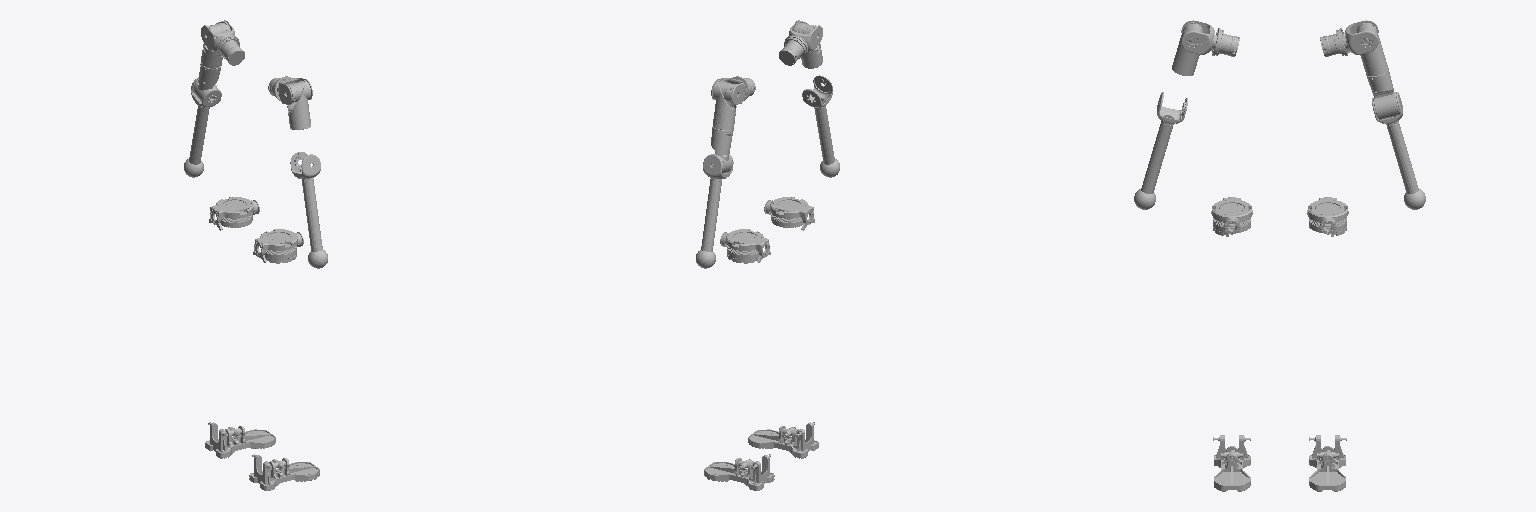
--- Facts derived from the render (not from the file) ---
3 views of the same robot in one strip: view 1: azimuth 30°, elevation 25°; view 2: azimuth 150°, elevation 25°; view 3: azimuth 270°, elevation 25° (orthographic).
Model tiangong_lite with 31 links and 30 joints (21 revolute, 9 fixed), rooted at base_link, posed every joint at zero.
Links seen in each view (by area): view 1: elbow_pitch_r_link, ankle_Roll_r_link, ankle_Roll_l_link, hip_Roll_r_link, elbow_pitch_l_link, hip_Roll_l_link, shoulder_roll_r_link, arm_fixed_l_link, arm_yaw_l_link, shoulder_roll_l_link; view 2: elbow_pitch_l_link, elbow_pitch_r_link, ankle_Roll_l_link, ankle_Roll_r_link, hip_Roll_l_link, hip_Roll_r_link, shoulder_roll_l_link, arm_yaw_l_link, arm_fixed_r_link, shoulder_roll_r_link; view 3: elbow_pitch_r_link, elbow_pitch_l_link, ankle_Roll_l_link, ankle_Roll_r_link, hip_Roll_r_link, hip_Roll_l_link, arm_yaw_l_link, shoulder_pitch_l_link, shoulder_pitch_r_link, shoulder_roll_r_link, shoulder_roll_l_link.
Link boxes in pixels (x1,y1,x2,y2): elbow_pitch_r_link: (290, 152, 327, 268); ankle_Roll_r_link: (249, 454, 319, 490); ankle_Roll_l_link: (205, 422, 275, 458); hip_Roll_r_link: (253, 229, 303, 263); elbow_pitch_l_link: (184, 77, 221, 177); hip_Roll_l_link: (209, 197, 259, 230); shoulder_roll_r_link: (286, 80, 310, 129); arm_fixed_l_link: (216, 35, 244, 65); arm_yaw_l_link: (192, 63, 221, 101); shoulder_roll_l_link: (201, 21, 230, 68); elbow_pitch_l_link: (696, 154, 733, 268); elbow_pitch_r_link: (802, 75, 839, 177); ankle_Roll_l_link: (704, 454, 774, 490); ankle_Roll_r_link: (748, 422, 818, 458); hip_Roll_l_link: (720, 229, 770, 263); hip_Roll_r_link: (764, 197, 814, 230); shoulder_roll_l_link: (713, 80, 737, 129); arm_yaw_l_link: (711, 127, 733, 173); arm_fixed_r_link: (779, 35, 807, 65); shoulder_roll_r_link: (793, 21, 822, 68); elbow_pitch_r_link: (1134, 92, 1187, 209); elbow_pitch_l_link: (1372, 92, 1425, 209); ankle_Roll_l_link: (1309, 435, 1346, 491); ankle_Roll_r_link: (1213, 435, 1250, 491); hip_Roll_r_link: (1211, 197, 1252, 236); hip_Roll_l_link: (1307, 197, 1348, 236); arm_yaw_l_link: (1366, 68, 1399, 119); shoulder_pitch_l_link: (1343, 20, 1378, 54); shoulder_pitch_r_link: (1181, 20, 1216, 54); shoulder_roll_r_link: (1172, 22, 1202, 75); shoulder_roll_l_link: (1357, 23, 1387, 75).
Size in the robot's own frame: 0.2 by 0.7924 by 1.34 metres.
15 mesh visuals loaded from 25 distinct referenced files (15 binary STL); not drawn: 10 (reference not matched to a file when rendering).

The robot description file, URDF, robot "tiangong_lite":
<?xml version="1.0" encoding="utf-8"?>
<!-- This URDF was automatically created by SolidWorks to URDF Exporter! Originally created by Stephen Brawner ([email redacted]) 
     Commit Version: 1.6.0-4-g7f85cfe  Build Version: 1.6.7995.38578
     For more information, please see http://wiki.ros.org/sw_urdf_exporter -->
<robot
  name="tiangong_lite">
  <link name="base_link">
    <visual>
      <geometry>
        <sphere radius="0.001" />
      </geometry>
    </visual>
  </link>
  
  <link
    name="pelvis">
    <inertial>
      <origin
        xyz="-0.0683191396459559 -1.61037901759549E-05 -0.0613244973739359"
        rpy="0 0 0" />
      <mass
        value="10.0968751442954" />
      <inertia
        ixx="0.0368422898385672"
        ixy="2.35803111868543E-06"
        ixz="0.000190664793941408"
        iyy="0.0167402708039097"
        iyz="-7.76076014449144E-07"
        izz="0.0364838559898797" />
    </inertial>
    <visual>
      <origin
        xyz="0 0 0"
        rpy="0 0 0" />
      <geometry>
        <mesh
          filename="package://tiangong_lite-URDF/meshes/pelvis.STL" />
      </geometry>
      <material
        name="">
        <color
          rgba="0.752941176470588 0.752941176470588 0.752941176470588 1" />
      </material>
    </visual>
    <collision>
      <origin
        xyz="0 0 0"
        rpy="0 0 0" />
      <geometry>
        <mesh
          filename="package://tiangong_lite-URDF/meshes/pelvis.STL" />
      </geometry>
    </collision>
  </link>
  
  <joint name="base_link2pelvis" type="fixed">
    <parent link="base_link" />
    <child link="pelvis" />
    <origin xyz="0 0 0.02" />
  </joint>
  
  <link
    name="imu_link">
  </link>

  <joint name="base_link2imu_joint" type="fixed">
    <origin xyz="0.033 0 -0.01479" rpy="0 0 0"/>
    <parent link="base_link"/>
    <child link="imu_link" />
  </joint>
  
  <link
    name="hip_Roll_l_link">
    <inertial>
      <origin
        xyz="-0.00044006 0.0030096 -0.0036503"
        rpy="0 0 0" />
      <mass
        value="1.2595" />
      <inertia
        ixx="0.00094409"
        ixy="7.5625E-09"
        ixz="-1.6451E-05"
        iyy="0.0014494"
        iyz="2.5156E-08"
        izz="0.0022836" />
    </inertial>
    <visual>
      <origin
        xyz="0 0 0"
        rpy="0 0 0" />
      <geometry>
        <mesh
          filename="package://tiangong_lite-URDF/meshes/hip_Roll_l_link.STL" />
      </geometry>
      <material
        name="">
        <color
          rgba="0.75294 0.75294 0.75294 1" />
      </material>
    </visual>
    <collision>
      <origin
        xyz="0 0 0"
        rpy="0 0 0" />
      <geometry>
        <mesh
          filename="package://tiangong_lite-URDF/meshes/hip_Roll_l_link.STL" />
      </geometry>
    </collision>
  </link>
  <joint
    name="hip_Roll_l_joint"
    type="revolute">
    <origin
      xyz="0 0.13 -0.079"
      rpy="0 0 0" />
    <parent
      link="pelvis" />
    <child
      link="hip_Roll_l_link" />
    <axis
      xyz="1 0 0" />
    <limit
      lower="0"
      upper="0"
      effort="0"
      velocity="0" />
  </joint>
  <link
    name="hip_Yaw_l_link">
    <inertial>
      <origin
        xyz="0.000456885227768308 0.00761317293034225 0.00431854133825724"
        rpy="0 0 0" />
      <mass
        value="4.21477664301727" />
      <inertia
        ixx="0.00425465956277031"
        ixy="-2.59645654577465E-06"
        ixz="3.52406937310402E-05"
        iyy="0.00788284234418444"
        iyz="-1.24140377482092E-05"
        izz="0.00425869617422774" />
    </inertial>
    <visual>
      <origin
        xyz="0 0 0"
        rpy="0 0 0" />
      <geometry>
        <mesh
          filename="package://tiangong_lite-URDF/meshes/hip_Yaw_l_link.STL" />
      </geometry>
      <material
        name="">
        <color
          rgba="0.752941176470588 0.752941176470588 0.752941176470588 1" />
      </material>
    </visual>
    <collision>
      <origin
        xyz="0 0 0"
        rpy="0 0 0" />
      <geometry>
        <mesh
          filename="package://tiangong_lite-URDF/meshes/hip_Yaw_l_link.STL" />
      </geometry>
    </collision>
  </link>
  <joint
    name="hip_Yaw_l_joint"
    type="revolute">
    <origin
      xyz="0 0 -0.116"
      rpy="0 0 0" />
    <parent
      link="hip_Roll_l_link" />
    <child
      link="hip_Yaw_l_link" />
    <axis
      xyz="0 0 1" />
    <limit
      lower="0"
      upper="0"
      effort="0"
      velocity="0" />
  </joint>
  <link
    name="hip_Pitch_l_link">
    <inertial>
      <origin
        xyz="0.0027656 -0.014993 -0.13492"
        rpy="0 0 0" />
      <mass
        value="5.0501" />
      <inertia
        ixx="0.014086"
        ixy="-0.000122"
        ixz="-0.00013584"
        iyy="0.018798"
        iyz="0.00037829"
        izz="0.0057246" />
    </inertial>
    <visual>
      <origin
        xyz="0 0 0"
        rpy="0 0 0" />
      <geometry>
        <mesh
          filename="package://tiangong_lite-URDF/meshes/hip_Pitch_l_link.STL" />
      </geometry>
      <material
        name="">
        <color
          rgba="0.75294 0.75294 0.75294 1" />
      </material>
    </visual>
    <collision>
      <origin
        xyz="0 0 0"
        rpy="0 0 0" />
      <geometry>
        <mesh
          filename="package://tiangong_lite-URDF/meshes/hip_Pitch_l_link.STL" />
      </geometry>
    </collision>
  </link>
  <joint
    name="hip_Pitch_l_joint"
    type="revolute">
    <origin
      xyz="0 0 0"
      rpy="0 0 0" />
    <parent
      link="hip_Yaw_l_link" />
    <child
      link="hip_Pitch_l_link" />
    <axis
      xyz="0 1 0" />
    <limit
      lower="0"
      upper="0"
      effort="0"
      velocity="0" />
  </joint>
  <link
    name="knee_Pitch_l_link">
    <inertial>
      <origin
        xyz="0.0046795 0.002884 -0.13005"
        rpy="0 0 0" />
      <mass
        value="2.4569" />
      <inertia
        ixx="0.026146"
        ixy="-1.0224E-05"
        ixz="-0.00059151"
        iyy="0.02631"
        iyz="-0.00085705"
        izz="0.0010515" />
    </inertial>
    <visual>
      <origin
        xyz="0 0 0"
        rpy="0 0 0" />
      <geometry>
        <mesh
          filename="package://tiangong_lite-URDF/meshes/knee_Pitch_l_link.STL" />
      </geometry>
      <material
        name="">
        <color
          rgba="0.75294 0.75294 0.75294 1" />
      </material>
    </visual>
    <collision>
      <origin
        xyz="0 0 0"
        rpy="0 0 0" />
      <geometry>
        <mesh
          filename="package://tiangong_lite-URDF/meshes/knee_Pitch_l_link.STL" />
      </geometry>
    </collision>
  </link>
  <joint
    name="knee_Pitch_l_joint"
    type="revolute">
    <origin
      xyz="0 0 -0.3"
      rpy="0 0 0" />
    <parent
      link="hip_Pitch_l_link" />
    <child
      link="knee_Pitch_l_link" />
    <axis
      xyz="0 1 0" />
    <limit
      lower="0"
      upper="0"
      effort="0"
      velocity="0" />
  </joint>
  <link
    name="ankle_Pitch_l_link">
    <inertial>
      <origin
        xyz="1.2319E-09 5.884E-10 2.2204E-16"
        rpy="0 0 0" />
      <mass
        value="0.11161" />
      <inertia
        ixx="7.9109E-06"
        ixy="1.5315E-19"
        ixz="-9.5838E-12"
        iyy="7.9109E-06"
        iyz="2.7061E-11"
        izz="1.2089E-05" />
    </inertial>
    <visual>
      <origin
        xyz="0 0 0"
        rpy="0 0 0" />
      <geometry>
        <mesh
          filename="package://tiangong_lite-URDF/meshes/ankle_Pitch_l_link.STL" />
      </geometry>
      <material
        name="">
        <color
          rgba="0.75294 0.75294 0.75294 1" />
      </material>
    </visual>
    <collision>
      <origin
        xyz="0 0 0"
        rpy="0 0 0" />
      <geometry>
        <mesh
          filename="package://tiangong_lite-URDF/meshes/ankle_Pitch_l_link.STL" />
      </geometry>
    </collision>
  </link>
  <joint
    name="ankle_Pitch_l_joint"
    type="revolute">
    <origin
      xyz="0 0 -0.3"
      rpy="0 0 0" />
    <parent
      link="knee_Pitch_l_link" />
    <child
      link="ankle_Pitch_l_link" />
    <axis
      xyz="0 1 0" />
    <limit
      lower="0"
      upper="0"
      effort="0"
      velocity="0" />
  </joint>
  <link
    name="ankle_Roll_l_link">
    <inertial>
      <origin
        xyz="0.0858563632348368 1.73450246768181E-06 -0.0297135132092604"
        rpy="0 0 0" />
      <mass
        value="1.21989561992106" />
      <inertia
        ixx="0.000907720482875368"
        ixy="2.23891942831048E-07"
        ixz="0.000252444158360131"
        iyy="0.00377166405514924"
        iyz="-3.3237662949299E-08"
        izz="0.00418690312758228" />
    </inertial>
    <visual>
      <origin
        xyz="0 0 0"
        rpy="0 0 0" />
      <geometry>
        <mesh
          filename="package://tiangong_lite-URDF/meshes/ankle_Roll_l_link.STL" />
      </geometry>
      <material
        name="">
        <color
          rgba="0.752941176470588 0.752941176470588 0.752941176470588 1" />
      </material>
    </visual>
    <collision>
      <origin
        xyz="0 0 0"
        rpy="0 0 0" />
      <geometry>
        <mesh
          filename="package://tiangong_lite-URDF/meshes/ankle_Roll_l_link.STL" />
      </geometry>
    </collision>
  </link>
  <joint
    name="ankle_Roll_l_joint"
    type="revolute">
    <origin
      xyz="0 0 0"
      rpy="0 0 0" />
    <parent
      link="ankle_Pitch_l_link" />
    <child
      link="ankle_Roll_l_link" />
    <axis
      xyz="1 0 0" />
    <limit
      lower="0"
      upper="0"
      effort="0"
      velocity="0" />
  </joint>
  <link
    name="hip_Roll_r_link">
    <inertial>
      <origin
        xyz="-0.000439312194278327 -0.00300416966870193 -0.00365027972307495"
        rpy="0 0 0" />
      <mass
        value="1.25950088215482" />
      <inertia
        ixx="0.000944092574085448"
        ixy="7.32465985850128E-09"
        ixz="-1.64507918369879E-05"
        iyy="0.00144941855214879"
        iyz="1.27973880002973E-09"
        izz="0.0022835534500942" />
    </inertial>
    <visual>
      <origin
        xyz="0 0 0"
        rpy="0 0 0" />
      <geometry>
        <mesh
          filename="package://tiangong_lite-URDF/meshes/hip_Roll_r_link.STL" />
      </geometry>
      <material
        name="">
        <color
          rgba="0.752941176470588 0.752941176470588 0.752941176470588 1" />
      </material>
    </visual>
    <collision>
      <origin
        xyz="0 0 0"
        rpy="0 0 0" />
      <geometry>
        <mesh
          filename="package://tiangong_lite-URDF/meshes/hip_Roll_r_link.STL" />
      </geometry>
    </collision>
  </link>
  <joint
    name="hip_Roll_r_joint"
    type="revolute">
    <origin
      xyz="0 -0.13 -0.079"
      rpy="1.4459E-05 0 0" />
    <parent
      link="pelvis" />
    <child
      link="hip_Roll_r_link" />
    <axis
      xyz="1 0 0" />
    <limit
      lower="0"
      upper="0"
      effort="0"
      velocity="0" />
  </joint>
  <link
    name="hip_Yaw_r_link">
    <inertial>
      <origin
        xyz="0.000456006506013643 -0.0076131161506835 0.00431866083313726"
        rpy="0 0 0" />
      <mass
        value="4.21477586079255" />
      <inertia
        ixx="0.00425465775545884"
        ixy="2.61264741300542E-06"
        ixz="3.52836955859386E-05"
        iyy="0.00788284031064002"
        iyz="1.23614311142944E-05"
        izz="0.0042586952389106" />
    </inertial>
    <visual>
      <origin
        xyz="0 0 0"
        rpy="0 0 0" />
      <geometry>
        <mesh
          filename="package://tiangong_lite-URDF/meshes/hip_Yaw_r_link.STL" />
      </geometry>
      <material
        name="">
        <color
          rgba="0.752941176470588 0.752941176470588 0.752941176470588 1" />
      </material>
    </visual>
    <collision>
      <origin
        xyz="0 0 0"
        rpy="0 0 0" />
      <geometry>
        <mesh
          filename="package://tiangong_lite-URDF/meshes/hip_Yaw_r_link.STL" />
      </geometry>
    </collision>
  </link>
  <joint
    name="hip_Yaw_r_joint"
    type="revolute">
    <origin
      xyz="0 0 -0.116"
      rpy="0 0 0" />
    <parent
      link="hip_Roll_r_link" />
    <child
      link="hip_Yaw_r_link" />
    <axis
      xyz="0 0 1" />
    <limit
      lower="0"
      upper="0"
      effort="0"
      velocity="0" />
  </joint>
  <link
    name="hip_Pitch_r_link">
    <inertial>
      <origin
        xyz="0.0028697335245849 0.0141006233952337 -0.135215157213496"
        rpy="0 0 0" />
      <mass
        value="5.20670219603598" />
      <inertia
        ixx="0.0143444928886745"
        ixy="0.000121473321099202"
        ixz="-0.000135908356485241"
        iyy="0.0190701122500365"
        iyz="-0.000372774854667684"
        izz="0.00574700553761126" />
    </inertial>
    <visual>
      <origin
        xyz="0 0 0"
        rpy="0 0 0" />
      <geometry>
        <mesh
          filename="package://tiangong_lite-URDF/meshes/hip_Pitch_r_link.STL" />
      </geometry>
      <material
        name="">
        <color
          rgba="0.752941176470588 0.752941176470588 0.752941176470588 1" />
      </material>
    </visual>
    <collision>
      <origin
        xyz="0 0 0"
        rpy="0 0 0" />
      <geometry>
        <mesh
          filename="package://tiangong_lite-URDF/meshes/hip_Pitch_r_link.STL" />
      </geometry>
    </collision>
  </link>
  <joint
    name="hip_Pitch_r_joint"
    type="revolute">
    <origin
      xyz="0 0 0"
      rpy="0 0 0" />
    <parent
      link="hip_Yaw_r_link" />
    <child
      link="hip_Pitch_r_link" />
    <axis
      xyz="0 1 0" />
    <limit
      lower="0"
      upper="0"
      effort="0"
      velocity="0" />
  </joint>
  <link
    name="knee_Pitch_r_link">
    <inertial>
      <origin
        xyz="0.00619249836981733 -0.00303269041139639 -0.109967014174552"
        rpy="0 0 0" />
      <mass
        value="1.39615529027845" />
      <inertia
        ixx="0.0102692753416539"
        ixy="-2.35387358742677E-06"
        ixz="-0.000230046953301911"
        iyy="0.0104415448554259"
        iyz="0.000359053481221643"
        izz="0.000581732203614894" />
    </inertial>
    <visual>
      <origin
        xyz="0 0 0"
        rpy="0 0 0" />
      <geometry>
        <mesh
          filename="package://tiangong_lite-URDF/meshes/knee_Pitch_r_link.STL" />
      </geometry>
      <material
        name="">
        <color
          rgba="0.752941176470588 0.752941176470588 0.752941176470588 1" />
      </material>
    </visual>
    <collision>
      <origin
        xyz="0 0 0"
        rpy="0 0 0" />
      <geometry>
        <mesh
          filename="package://tiangong_lite-URDF/meshes/knee_Pitch_r_link.STL" />
      </geometry>
    </collision>
  </link>
  <joint
    name="knee_Pitch_r_joint"
    type="revolute">
    <origin
      xyz="0 0 -0.3"
      rpy="0 0 0" />
    <parent
      link="hip_Pitch_r_link" />
    <child
      link="knee_Pitch_r_link" />
    <axis
      xyz="0 1 0" />
    <limit
      lower="0"
      upper="0"
      effort="0"
      velocity="0" />
  </joint>
  <link
    name="ankle_Pitch_r_link">
    <inertial>
      <origin
        xyz="1.23188749479031E-09 5.85886894555188E-10 -8.32667268468867E-15"
        rpy="0 0 0" />
      <mass
        value="0.111608822288322" />
      <inertia
        ixx="7.91093390232077E-06"
        ixy="-1.38407045737334E-16"
        ixz="-9.58378541090109E-12"
        iyy="7.91093390397659E-06"
        iyz="8.7475039554346E-11"
        izz="1.20892451405542E-05" />
    </inertial>
    <visual>
      <origin
        xyz="0 0 0"
        rpy="0 0 0" />
      <geometry>
        <mesh
          filename="package://tiangong_lite-URDF/meshes/ankle_Pitch_r_link.STL" />
      </geometry>
      <material
        name="">
        <color
          rgba="0.752941176470588 0.752941176470588 0.752941176470588 1" />
      </material>
    </visual>
    <collision>
      <origin
        xyz="0 0 0"
        rpy="0 0 0" />
      <geometry>
        <mesh
          filename="package://tiangong_lite-URDF/meshes/ankle_Pitch_r_link.STL" />
      </geometry>
    </collision>
  </link>
  <joint
    name="ankle_Pitch_r_joint"
    type="revolute">
    <origin
      xyz="0 0 -0.3"
      rpy="0 0 0" />
    <parent
      link="knee_Pitch_r_link" />
    <child
      link="ankle_Pitch_r_link" />
    <axis
      xyz="0 1 0" />
    <limit
      lower="0"
      upper="0"
      effort="0"
      velocity="0" />
  </joint>
  <link
    name="ankle_Roll_r_link">
    <inertial>
      <origin
        xyz="0.0858567029982514 1.73369301259552E-06 -0.0297135112290561"
        rpy="0 0 0" />
      <mass
        value="1.21989566987959" />
      <inertia
        ixx="0.000907720619619834"
        ixy="2.2384804902434E-07"
        ixz="0.00025244428107805"
        iyy="0.00377166430573754"
        iyz="-3.31927296622098E-08"
        izz="0.00418690329527644" />
    </inertial>
    <visual>
      <origin
        xyz="0 0 0"
        rpy="0 0 0" />
      <geometry>
        <mesh
          filename="package://tiangong_lite-URDF/meshes/ankle_Roll_r_link.STL" />
      </geometry>
      <material
        name="">
        <color
          rgba="0.752941176470588 0.752941176470588 0.752941176470588 1" />
      </material>
    </visual>
    <collision>
      <origin
        xyz="0 0 0"
        rpy="0 0 0" />
      <geometry>
        <mesh
          filename="package://tiangong_lite-URDF/meshes/ankle_Roll_r_link.STL" />
      </geometry>
    </collision>
  </link>
  <joint
    name="ankle_Roll_r_joint"
    type="revolute">
    <origin
      xyz="0 0 0"
      rpy="0 0 0" />
    <parent
      link="ankle_Pitch_r_link" />
    <child
      link="ankle_Roll_r_link" />
    <axis
      xyz="1 0 0" />
    <limit
      lower="0"
      upper="0"
      effort="0"
      velocity="0" />
  </joint>
  <link
    name="body_yaw_link">
    <inertial>
      <origin
        xyz="0.439908194723752 0.00791614353772113 -0.403941224826205"
        rpy="0 0 0" />
      <mass
        value="112303.61485177" />
      <inertia
        ixx="96216.4634299876"
        ixy="-0.000685580740438174"
        ixz="0.483138830909573"
        iyy="41700.5586162108"
        iyz="0.000194712683985338"
        izz="94767.5437944687" />
    </inertial>
    <visual>
      <origin
        xyz="0 0 0"
        rpy="0 0 0" />
      <geometry>
        <mesh
          filename="package://tiangong_lite-URDF/meshes/body_yaw_link.STL" />
      </geometry>
      <material
        name="">
        <color
          rgba="0.752941176470588 0.752941176470588 0.752941176470588 1" />
      </material>
    </visual>
    <collision>
      <origin
        xyz="0 0 0"
        rpy="0 0 0" />
      <geometry>
        <mesh
          filename="package://tiangong_lite-URDF/meshes/body_yaw_link.STL" />
      </geometry>
    </collision>
  </link>
  <joint
    name="body_yaw_joint"
    type="revolute">
    <origin
      xyz="0 0 0.006"
      rpy="0 0 0" />
    <parent
      link="pelvis" />
    <child
      link="body_yaw_link" />
    <axis
      xyz="0 0 1" />
    <limit
      lower="0"
      upper="0"
      effort="0"
      velocity="0" />
  </joint>
  <link
    name="head_fixed_link">
    <inertial>
      <origin
        xyz="0.00993488956159401 0.00179617443569554 0.113065970523808"
        rpy="0 0 0" />
      <mass
        value="1.89960520285179" />
      <inertia
        ixx="0.00174018835315808"
        ixy="6.14360319608725E-07"
        ixz="0.000387656493191107"
        iyy="0.001825572084354"
        iyz="-4.27161498507822E-06"
        izz="0.00156890943866061" />
    </inertial>
    <visual>
      <origin
        xyz="0 0 0"
        rpy="0 0 0" />
      <geometry>
        <mesh
          filename="package://tiangong_lite-URDF/meshes/head_fixed_link.STL" />
      </geometry>
      <material
        name="">
        <color
          rgba="0.752941176470588 0.752941176470588 0.752941176470588 1" />
      </material>
    </visual>
    <collision>
      <origin
        xyz="0 0 0"
        rpy="0 0 0" />
      <geometry>
        <mesh
          filename="package://tiangong_lite-URDF/meshes/head_fixed_link.STL" />
      </geometry>
    </collision>
  </link>
  <joint
    name="head_fixed_joint"
    type="fixed">
    <origin
      xyz="-0.009 0 0.555"
      rpy="0 0 0" />
    <parent
      link="body_yaw_link" />
    <child
      link="head_fixed_link" />
    <axis
      xyz="0 0 0" />
  </joint>
  <link
    name="arm_fixed_l_link">
    <inertial>
      <origin
        xyz="6.24118793529499E-05 -0.0198767410784128 -1.10866576279456E-05"
        rpy="0 0 0" />
      <mass
        value="0.184655552136319" />
      <inertia
        ixx="6.3041442401369E-05"
        ixy="1.53887882301793E-07"
        ixz="2.41972219328285E-07"
        iyy="0.000116608086530029"
        iyz="4.2481027555446E-08"
        izz="6.05701502131721E-05" />
    </inertial>
    <visual>
      <origin
        xyz="0 0 0"
        rpy="0 0 0" />
      <geometry>
        <mesh
          filename="package://tiangong_lite-URDF/meshes/arm_fixed_l_link.STL" />
      </geometry>
      <material
        name="">
        <color
          rgba="0.752941176470588 0.752941176470588 0.752941176470588 1" />
      </material>
    </visual>
    <collision>
      <origin
        xyz="0 0 0"
        rpy="0 0 0" />
      <geometry>
        <mesh
          filename="package://tiangong_lite-URDF/meshes/arm_fixed_l_link.STL" />
      </geometry>
    </collision>
  </link>
  <joint
    name="arm_fixed_l_joint"
    type="fixed">
    <origin
      xyz="0 0.17581 0.43652"
      rpy="0.2618 0 0" />
    <parent
      link="body_yaw_link" />
    <child
      link="arm_fixed_l_link" />
    <axis
      xyz="0 0 0" />
  </joint>
  <link
    name="shoulder_pitch_l_link">
    <inertial>
      <origin
        xyz="0.000989273274181413 0.0302016203519574 0.000416894822650116"
        rpy="0 0 0" />
      <mass
        value="0.163760015963769" />
      <inertia
        ixx="0.000146202007086442"
        ixy="-3.30222068312413E-05"
        ixz="9.33088040256371E-07"
        iyy="0.000105582684962256"
        iyz="-8.05037310616212E-08"
        izz="0.000136266334963977" />
    </inertial>
    <visual>
      <origin
        xyz="0 0 0"
        rpy="0 0 0" />
      <geometry>
        <mesh
          filename="package://tiangong_lite-URDF/meshes/shoulder_pitch_l_link.STL" />
      </geometry>
      <material
        name="">
        <color
          rgba="0.752941176470588 0.752941176470588 0.752941176470588 1" />
      </material>
    </visual>
    <collision>
      <origin
        xyz="0 0 0"
        rpy="0 0 0" />
      <geometry>
        <mesh
          filename="package://tiangong_lite-URDF/meshes/shoulder_pitch_l_link.STL" />
      </geometry>
    </collision>
  </link>
  <joint
    name="shoulder_pitch_l_joint"
    type="revolute">
    <origin
      xyz="0 0 0"
      rpy="0 0 0" />
    <parent
      link="arm_fixed_l_link" />
    <child
      link="shoulder_pitch_l_link" />
    <axis
      xyz="0 1 0" />
    <limit
      lower="0"
      upper="0"
      effort="0"
      velocity="0" />
  </joint>
  <link
    name="shoulder_roll_l_link">
    <inertial>
      <origin
        xyz="0.00485439182321085 -3.152635851289E-05 -0.044939361170702"
        rpy="0 0 0" />
      <mass
        value="0.432777699089106" />
      <inertia
        ixx="0.000442365382476295"
        ixy="5.94896655133911E-08"
        ixz="-6.32906197798766E-05"
        iyy="0.000401350371618861"
        iyz="-1.66998633440174E-07"
        izz="0.000244312949348791" />
    </inertial>
    <visual>
      <origin
        xyz="0 0 0"
        rpy="0 0 0" />
      <geometry>
        <mesh
          filename="package://tiangong_lite-URDF/meshes/shoulder_roll_l_link.STL" />
      </geometry>
      <material
        name="">
        <color
          rgba="0.752941176470588 0.752941176470588 0.752941176470588 1" />
      </material>
    </visual>
    <collision>
      <origin
        xyz="0 0 0"
        rpy="0 0 0" />
      <geometry>
        <mesh
          filename="package://tiangong_lite-URDF/meshes/shoulder_roll_l_link.STL" />
      </geometry>
    </collision>
  </link>
  <joint
    name="shoulder_roll_l_joint"
    type="revolute">
    <origin
      xyz="-0.0025 0.062 0"
      rpy="0 0 0" />
    <parent
      link="shoulder_pitch_l_link" />
    <child
      link="shoulder_roll_l_link" />
    <axis
      xyz="1 0 0" />
    <limit
      lower="0"
      upper="0"
      effort="0"
      velocity="0" />
  </joint>
  <link
    name="arm_yaw_l_link">
    <inertial>
      <origin
        xyz="-7.1318750116206E-05 -0.00134680048191116 -0.0805452270789805"
        rpy="0 0 0" />
      <mass
        value="0.359552138733755" />
      <inertia
        ixx="0.00040544908782681"
        ixy="9.65120599760225E-08"
        ixz="-6.28942464226155E-07"
        iyy="0.000492186988541075"
        iyz="2.85478811100676E-06"
        izz="0.000144430750883432" />
    </inertial>
    <visual>
      <origin
        xyz="0 0 0"
        rpy="0 0 0" />
      <geometry>
        <mesh
          filename="package://tiangong_lite-URDF/meshes/arm_yaw_l_link.STL" />
      </geometry>
      <material
        name="">
        <color
          rgba="0.752941176470588 0.752941176470588 0.752941176470588 1" />
      </material>
    </visual>
    <collision>
      <origin
        xyz="0 0 0"
        rpy="0 0 0" />
      <geometry>
        <mesh
          filename="package://tiangong_lite-URDF/meshes/arm_yaw_l_link.STL" />
      </geometry>
    </collision>
  </link>
  <joint
    name="arm_yaw_l_joint"
    type="revolute">
    <origin
      xyz="0 0 -0.107"
      rpy="0 0 0" />
    <parent
      link="shoulder_roll_l_link" />
    <child
      link="arm_yaw_l_link" />
    <axis
      xyz="0 0 1" />
    <limit
      lower="0"
      upper="0"
      effort="0"
      velocity="0" />
  </joint>
  <link
    name="elbow_pitch_l_link">
    <inertial>
      <origin
        xyz="-0.000267378745337346 -0.00101357122959228 -0.145932853189838"
        rpy="0 0 0" />
      <mass
        value="0.341152165991085" />
      <inertia
        ixx="0.000585227219393685"
        ixy="7.52344399314533E-09"
        ixz="2.42230990319644E-08"
        iyy="0.000618028097978455"
        iyz="1.77275661931557E-06"
        izz="0.000142916629107069" />
    </inertial>
    <visual>
      <origin
        xyz="0 0 0"
        rpy="0 0 0" />
      <geometry>
        <mesh
          filename="package://tiangong_lite-URDF/meshes/elbow_pitch_l_link.STL" />
      </geometry>
      <material
        name="">
        <color
          rgba="0.752941176470588 0.752941176470588 0.752941176470588 1" />
      </material>
    </visual>
    <collision>
      <origin
        xyz="0 0 0"
        rpy="0 0 0" />
      <geometry>
        <mesh
          filename="package://tiangong_lite-URDF/meshes/elbow_pitch_l_link.STL" />
      </geometry>
    </collision>
  </link>
  <joint
    name="elbow_pitch_l_joint"
    type="revolute">
    <origin
      xyz="0 0 -0.11"
      rpy="0 0 0" />
    <parent
      link="arm_yaw_l_link" />
    <child
      link="elbow_pitch_l_link" />
    <axis
      xyz="0 1 0" />
    <limit
      lower="0"
      upper="0"
      effort="0"
      velocity="0" />
  </joint>
  <link
    name="arm_fixed_r_link">
    <inertial>
      <origin
        xyz="1.13562185695554E-05 0.0198767405030651 -6.48830854979021E-05"
        rpy="0 0 0" />
      <mass
        value="0.184655530744442" />
      <inertia
        ixx="6.15582029843406E-05"
        ixy="-9.48604759119314E-08"
        ixz="-9.2290368768969E-07"
        iyy="0.000116608070838989"
        iyz="1.30187087019491E-07"
        izz="6.20533738305161E-05" />
    </inertial>
    <visual>
      <origin
        xyz="0 0 0"
        rpy="0 0 0" />
      <geometry>
        <mesh
          filename="package://tiangong_lite-URDF/meshes/arm_fixed_r_link.STL" />
      </geometry>
      <material
        name="">
        <color
          rgba="0.752941176470588 0.752941176470588 0.752941176470588 1" />
      </material>
    </visual>
    <collision>
      <origin
        xyz="0 0 0"
        rpy="0 0 0" />
      <geometry>
        <mesh
          filename="package://tiangong_lite-URDF/meshes/arm_fixed_r_link.STL" />
      </geometry>
    </collision>
  </link>
  <joint
    name="arm_fixed_r_joint"
    type="fixed">
    <origin
      xyz="0 -0.17577 0.43652"
      rpy="-0.2618 0 0" />
    <parent
      link="body_yaw_link" />
    <child
      link="arm_fixed_r_link" />
    <axis
      xyz="0 0 0" />
  </joint>
  <link
    name="shoulder_pitch_r_link">
    <inertial>
      <origin
        xyz="0.000984074779054461 -0.0302017799648043 0.000418191043138505"
        rpy="0 0 0" />
      <mass
        value="0.163753108861685" />
      <inertia
        ixx="0.000146227741154197"
        ixy="3.30231930084719E-05"
        ixz="9.32689584949343E-07"
        iyy="0.000105605287756792"
        iyz="8.08640084883215E-08"
        izz="0.000136257205332833" />
    </inertial>
    <visual>
      <origin
        xyz="0 0 0"
        rpy="0 0 0" />
      <geometry>
        <mesh
          filename="package://tiangong_lite-URDF/meshes/shoulder_pitch_r_link.STL" />
      </geometry>
      <material
        name="">
        <color
          rgba="0.752941176470588 0.752941176470588 0.752941176470588 1" />
      </material>
    </visual>
    <collision>
      <origin
        xyz="0 0 0"
        rpy="0 0 0" />
      <geometry>
        <mesh
          filename="package://tiangong_lite-URDF/meshes/shoulder_pitch_r_link.STL" />
      </geometry>
    </collision>
  </link>
  <joint
    name="shoulder_pitch_r_joint"
    type="revolute">
    <origin
      xyz="0 0 0"
      rpy="0 0 0" />
    <parent
      link="arm_fixed_r_link" />
    <child
      link="shoulder_pitch_r_link" />
    <axis
      xyz="0 1 0" />
    <limit
      lower="0"
      upper="0"
      effort="0"
      velocity="0" />
  </joint>
  <link
    name="shoulder_roll_r_link">
    <inertial>
      <origin
        xyz="0.00485593298005009 3.86062626682171E-05 -0.044938174983024"
        rpy="0 0 0" />
      <mass
        value="0.432784682073277" />
      <inertia
        ixx="0.000442798060588713"
        ixy="1.77645764500357E-07"
        ixz="-6.32743827157168E-05"
        iyy="0.000400951763753153"
        iyz="1.45826637634781E-06"
        izz="0.000244309915436549" />
    </inertial>
    <visual>
      <origin
        xyz="0 0 0"
        rpy="0 0 0" />
      <geometry>
        <mesh
          filename="package://tiangong_lite-URDF/meshes/shoulder_roll_r_link.STL" />
      </geometry>
      <material
        name="">
        <color
          rgba="0.752941176470588 0.752941176470588 0.752941176470588 1" />
      </material>
    </visual>
    <collision>
      <origin
        xyz="0 0 0"
        rpy="0 0 0" />
      <geometry>
        <mesh
          filename="package://tiangong_lite-URDF/meshes/shoulder_roll_r_link.STL" />
      </geometry>
    </collision>
  </link>
  <joint
    name="shoulder_roll_r_joint"
    type="revolute">
    <origin
      xyz="-0.0025 -0.062 0"
      rpy="0 0 0" />
    <parent
      link="shoulder_pitch_r_link" />
    <child
      link="shoulder_roll_r_link" />
    <axis
      xyz="1 0 0" />
    <limit
      lower="0"
      upper="0"
      effort="0"
      velocity="0" />
  </joint>
  <link
    name="arm_yaw_r_link">
    <inertial>
      <origin
        xyz="-6.76306998437237E-05 0.0013843105794642 -0.0805434030482257"
        rpy="0 0 0" />
      <mass
        value="0.359576536081849" />
      <inertia
        ixx="0.000405481111360621"
        ixy="-9.75510302638762E-08"
        ixz="-6.28599437964714E-07"
        iyy="0.000492229895746316"
        iyz="-2.88977747936653E-06"
        izz="0.000144451052528508" />
    </inertial>
    <visual>
      <origin
        xyz="0 0 0"
        rpy="0 0 0" />
      <geometry>
        <mesh
          filename="package://tiangong_lite-URDF/meshes/arm_yaw_r_link.STL" />
      </geometry>
      <material
        name="">
        <color
          rgba="0.752941176470588 0.752941176470588 0.752941176470588 1" />
      </material>
    </visual>
    <collision>
      <origin
        xyz="0 0 0"
        rpy="0 0 0" />
      <geometry>
        <mesh
          filename="package://tiangong_lite-URDF/meshes/arm_yaw_r_link.STL" />
      </geometry>
    </collision>
  </link>
  <joint
    name="arm_yaw_r_joint"
    type="revolute">
    <origin
      xyz="0 0 -0.107"
      rpy="0 0 0" />
    <parent
      link="shoulder_roll_r_link" />
    <child
      link="arm_yaw_r_link" />
    <axis
      xyz="0 0 1" />
    <limit
      lower="0"
      upper="0"
      effort="0"
      velocity="0" />
  </joint>
  <link
    name="elbow_pitch_r_link">
    <inertial>
      <origin
        xyz="-0.000267289097138676 0.00101412204503598 -0.145934178030576"
        rpy="0 0 0" />
      <mass
        value="0.341148289307969" />
      <inertia
        ixx="0.000585225230826669"
        ixy="-6.81381003804779E-09"
        ixz="2.42765502642185E-08"
        iyy="0.000618027410751206"
        iyz="-1.77272534259998E-06"
        izz="0.000142917375365978" />
    </inertial>
    <visual>
      <origin
        xyz="0 0 0"
        rpy="0 0 0" />
      <geometry>
        <mesh
          filename="package://tiangong_lite-URDF/meshes/elbow_pitch_r_link.STL" />
      </geometry>
      <material
        name="">
        <color
          rgba="0.752941176470588 0.752941176470588 0.752941176470588 1" />
      </material>
    </visual>
    <collision>
      <origin
        xyz="0 0 0"
        rpy="0 0 0" />
      <geometry>
        <mesh
          filename="package://tiangong_lite-URDF/meshes/elbow_pitch_r_link.STL" />
      </geometry>
    </collision>
  </link>
  <joint
    name="elbow_pitch_r_joint"
    type="revolute">
    <origin
      xyz="0 0 -0.11"
      rpy="0 0 0" />
    <parent
      link="arm_yaw_r_link" />
    <child
      link="elbow_pitch_r_link" />
    <axis
      xyz="0 1 0" />
    <limit
      lower="0"
      upper="0"
      effort="0"
      velocity="0" />
  </joint>
  
  <link
    name="front_camera_link">
  </link>

  <joint name="body_link_to_front_camera_joint" type="fixed">
    <origin xyz="0.078 0.0475 0.4712" rpy="0 0 0"/>
    <parent link="body_yaw_link"/>
    <child link="front_camera_link"/>
  </joint>

  <link
    name="waist_camera_link">
  </link>

  <joint name="body_link_to_waist_camera_joint" type="fixed">
    <origin xyz="0.091 0.0475 0.082" rpy="0.00157482 0.90763299 0.02184842"/>
    <parent link="body_yaw_link"/>
    <child link="waist_camera_link"/>
  </joint>

  <link
    name="back_camera_link">
  </link>

  <joint name="body_link_to_back_camera_joint" type="fixed">
    <origin xyz="-0.119 -0.0475 0.359" rpy="0 2.1642 0"/>
    <parent link="body_yaw_link"/>
    <child link="back_camera_link"/>
  </joint>

  <link
    name="head_camera_link">
  </link>

  <joint name="body_link_to_head_camera_joint" type="fixed">
    <origin xyz="0.094 0.0355 0.68591" rpy="0 0.61 0"/>
    <parent link="body_yaw_link"/>
    <child link="head_camera_link"/>
  </joint>
</robot>
